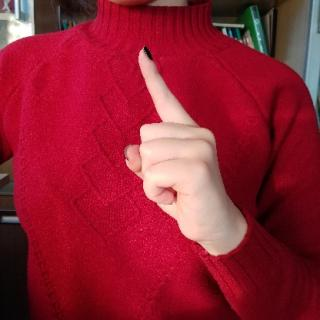RAA: (114, 45, 246, 249)
